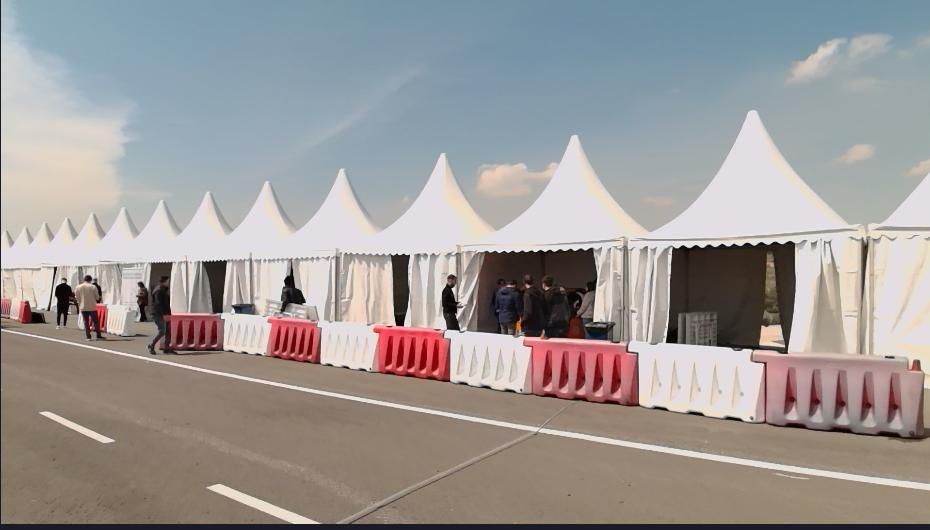nesne: (1, 325, 928, 525), (0, 327, 929, 526), (0, 326, 928, 491), (162, 313, 924, 438), (0, 377, 318, 521), (763, 352, 919, 436), (635, 342, 763, 424), (531, 336, 633, 403), (448, 326, 528, 393), (208, 481, 320, 524), (374, 325, 447, 380), (39, 408, 115, 445), (320, 320, 376, 370), (268, 315, 320, 362), (162, 314, 224, 351), (146, 274, 175, 353), (538, 273, 572, 335), (222, 313, 272, 354), (73, 274, 103, 339), (493, 277, 523, 331), (520, 269, 544, 333), (441, 272, 467, 328), (573, 276, 595, 328), (51, 274, 72, 326), (106, 304, 136, 337), (278, 274, 304, 312), (134, 278, 149, 321), (584, 320, 613, 340), (93, 303, 106, 331), (17, 299, 32, 323), (231, 301, 253, 313), (9, 298, 19, 322), (0, 299, 11, 318)
